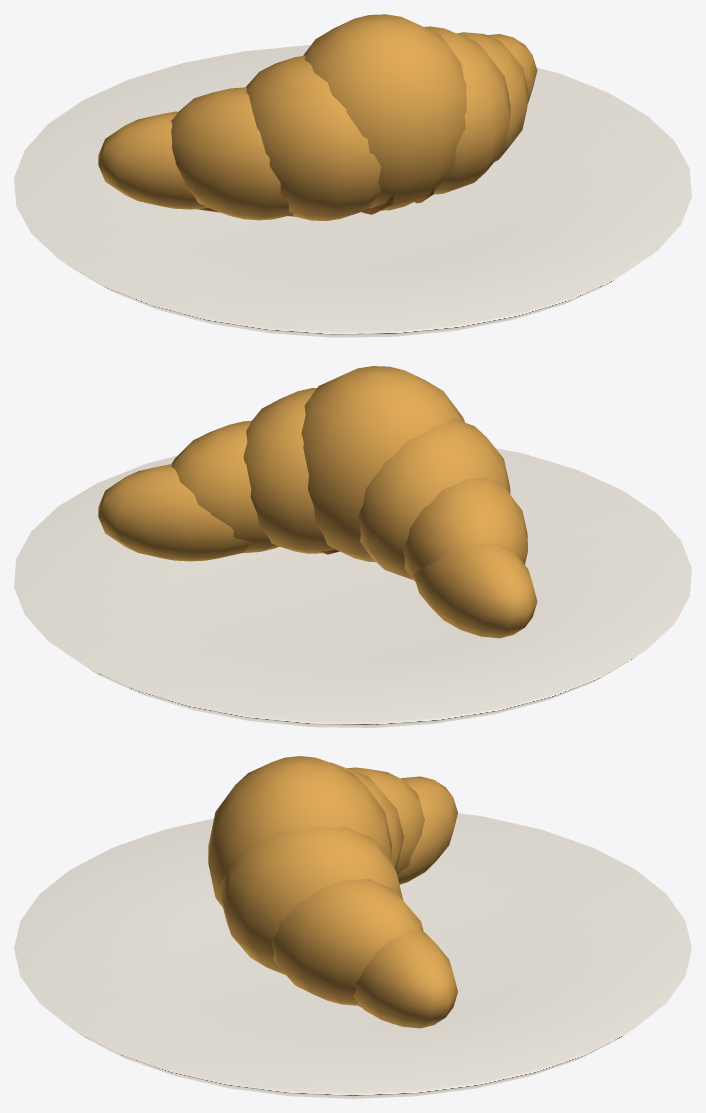
The model's file is croissant.glb.
3 views of the same model, one above another, from view 1: azimuth 30°, elevation 25°; view 2: azimuth 150°, elevation 25°; view 3: azimuth 270°, elevation 25° (orthographic).
Visible parts, largest first — view 1: croissant; view 2: croissant; view 3: croissant.
Part boxes in pixels (x1,y1,x2,y2): croissant: (14, 14, 691, 337); croissant: (14, 366, 691, 727); croissant: (14, 756, 691, 1098).
Size of the model in its own units: 0.144 by 0.0465 by 0.144.
